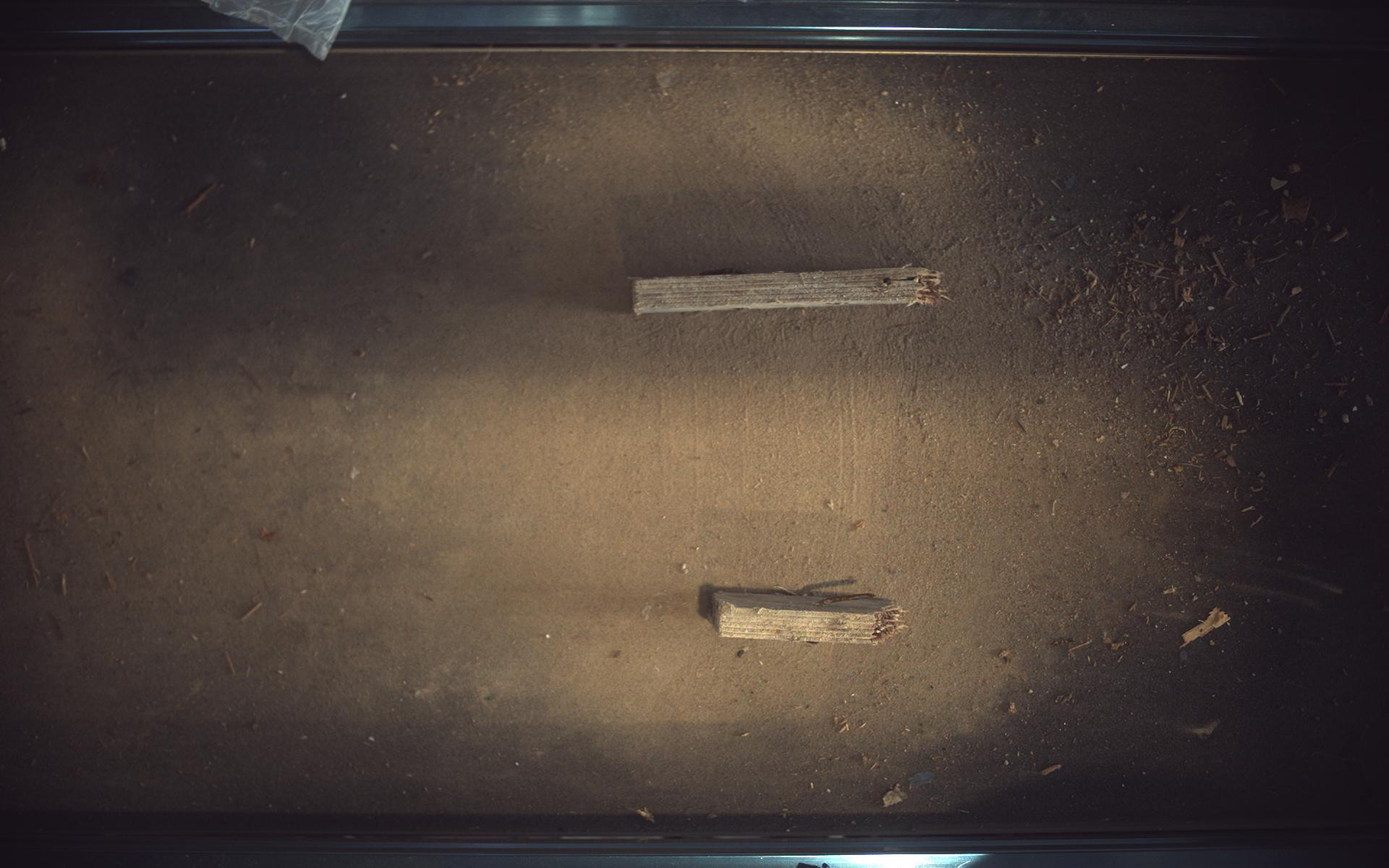wood: (634, 265, 949, 315), (713, 590, 906, 644)
